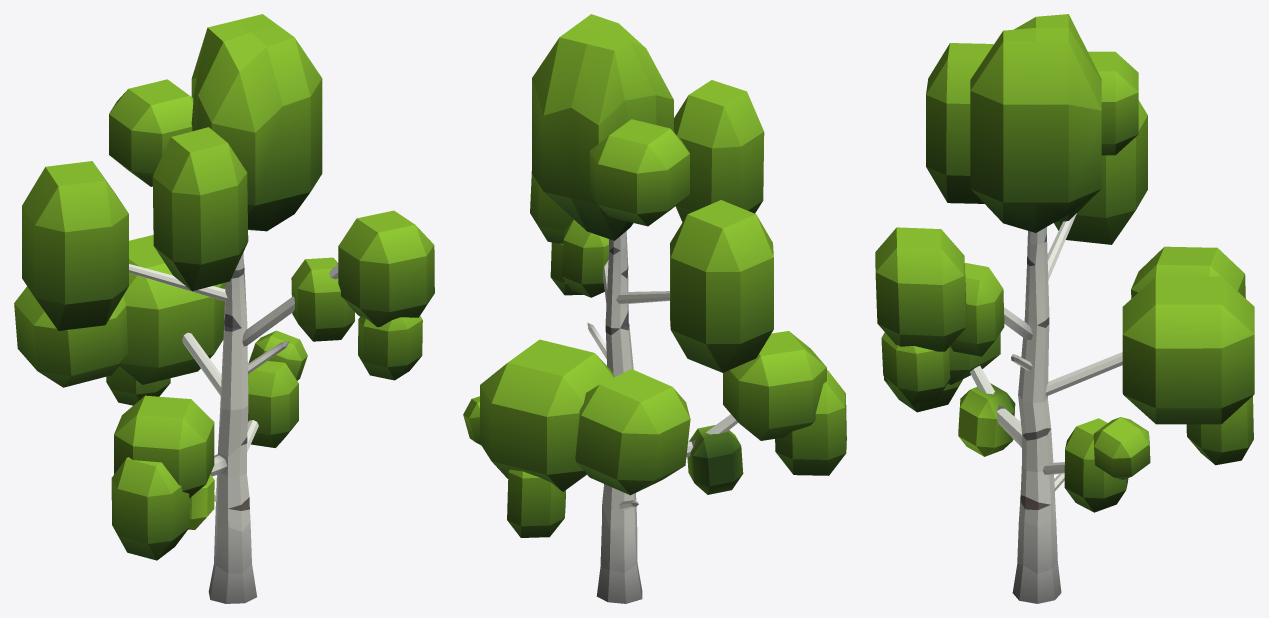
Rendered from SilverBirchTreeMediumB.fbx.
3 views of the same model, side by side, from view 1: azimuth 30°, elevation 25°; view 2: azimuth 150°, elevation 25°; view 3: azimuth 270°, elevation 25° (orthographic). The views are drawn at different scales.
Parts seen in each view (by area): view 1: SilverBirchTreeMediumB; view 2: SilverBirchTreeMediumB; view 3: SilverBirchTreeMediumB.
Boxes of the visible parts, <box> form: SilverBirchTreeMediumB: <box>14,14,434,603</box>; SilverBirchTreeMediumB: <box>463,14,846,603</box>; SilverBirchTreeMediumB: <box>875,14,1254,603</box>.
Size of the model in its own units: 286 by 490 by 293.
